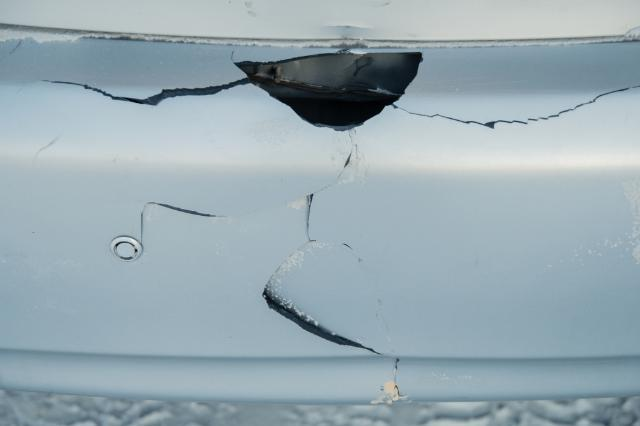crack: (39, 51, 640, 404)
